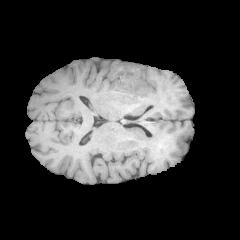glioma: (105, 62, 150, 100)
